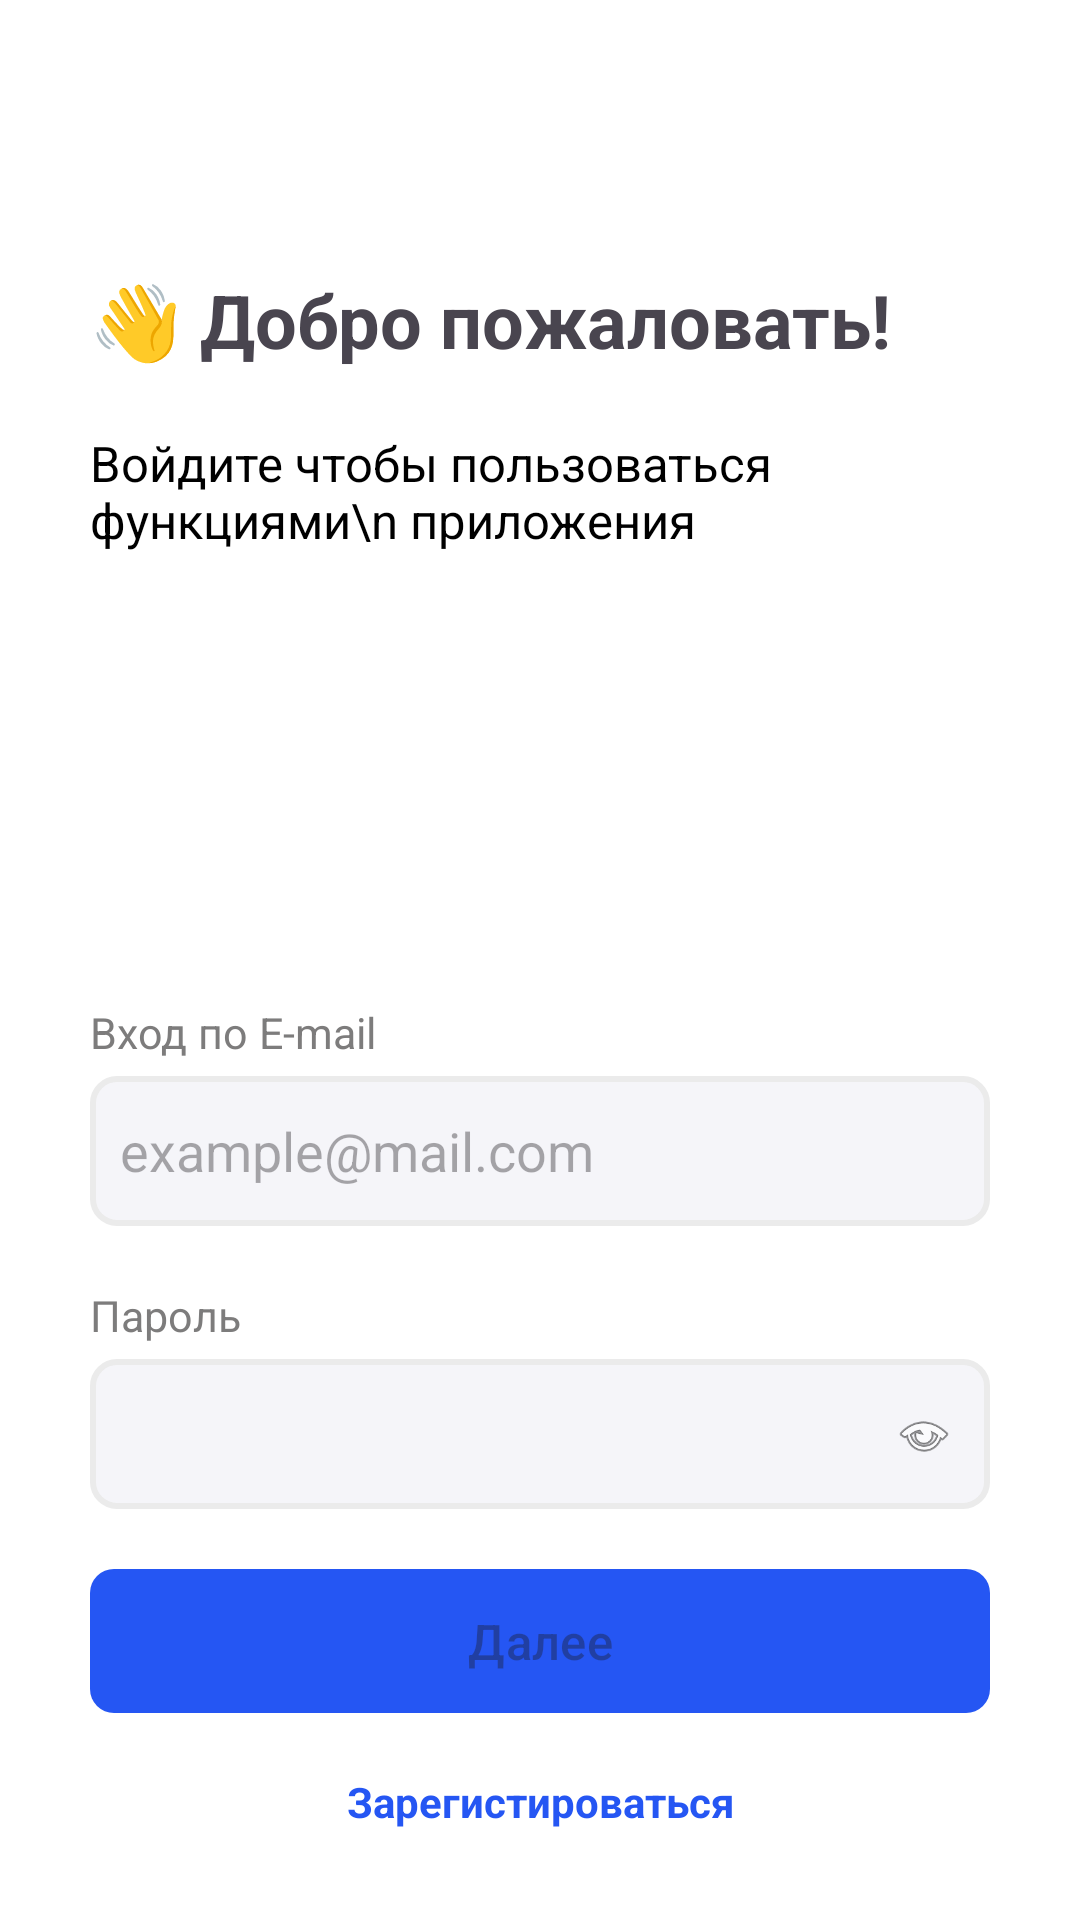

Point at icon controls on the screen. Image size 1080 × 1920, points as [x,y].
view: [924,1436]
